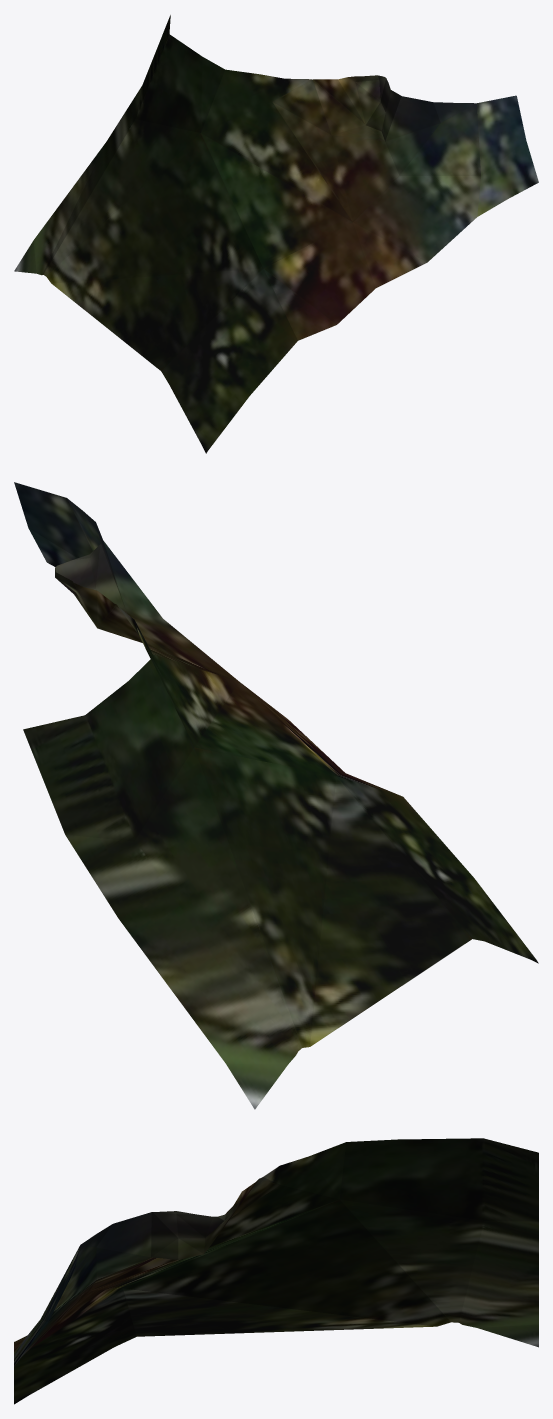
3 renders of one model, top to bottom at view 1: azimuth 30°, elevation 25°; view 2: azimuth 150°, elevation 25°; view 3: azimuth 270°, elevation 25°, orthographic. The views are drawn at different scales.
Bounding box in the file's own units: 1.67 × 1.25 × 1.67.
2 materials, 2 textured.
